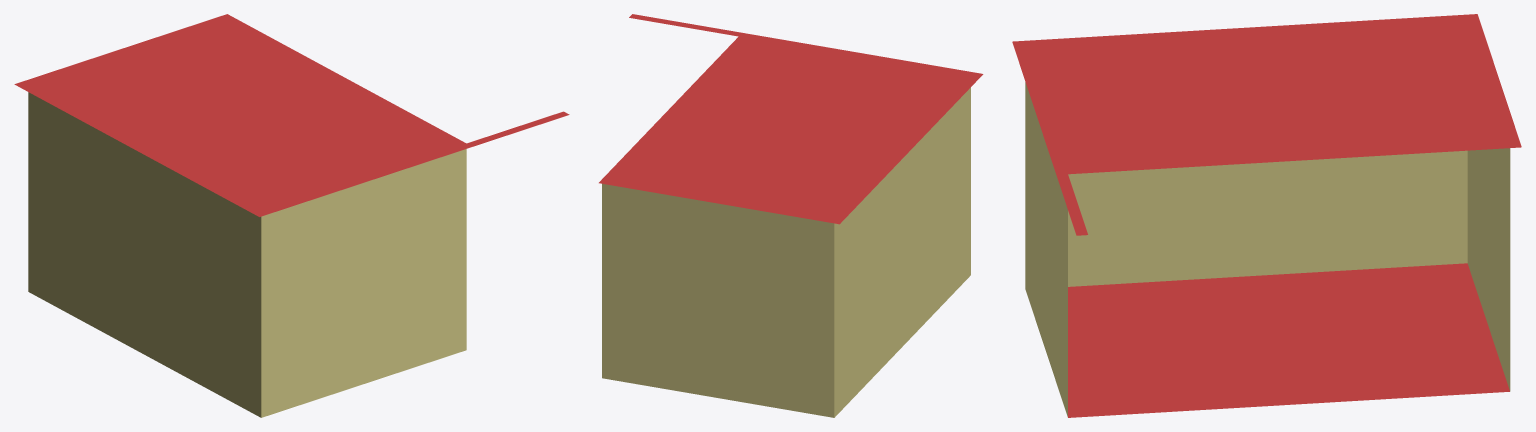
The picture shows the model from 3 angles, left to right: view 1: azimuth 30°, elevation 25°; view 2: azimuth 150°, elevation 25°; view 3: azimuth 270°, elevation 25°; orthographic projection. The views are drawn at different scales.
Size of the model in its own units: 11.12 by 10.81 by 5.7.
